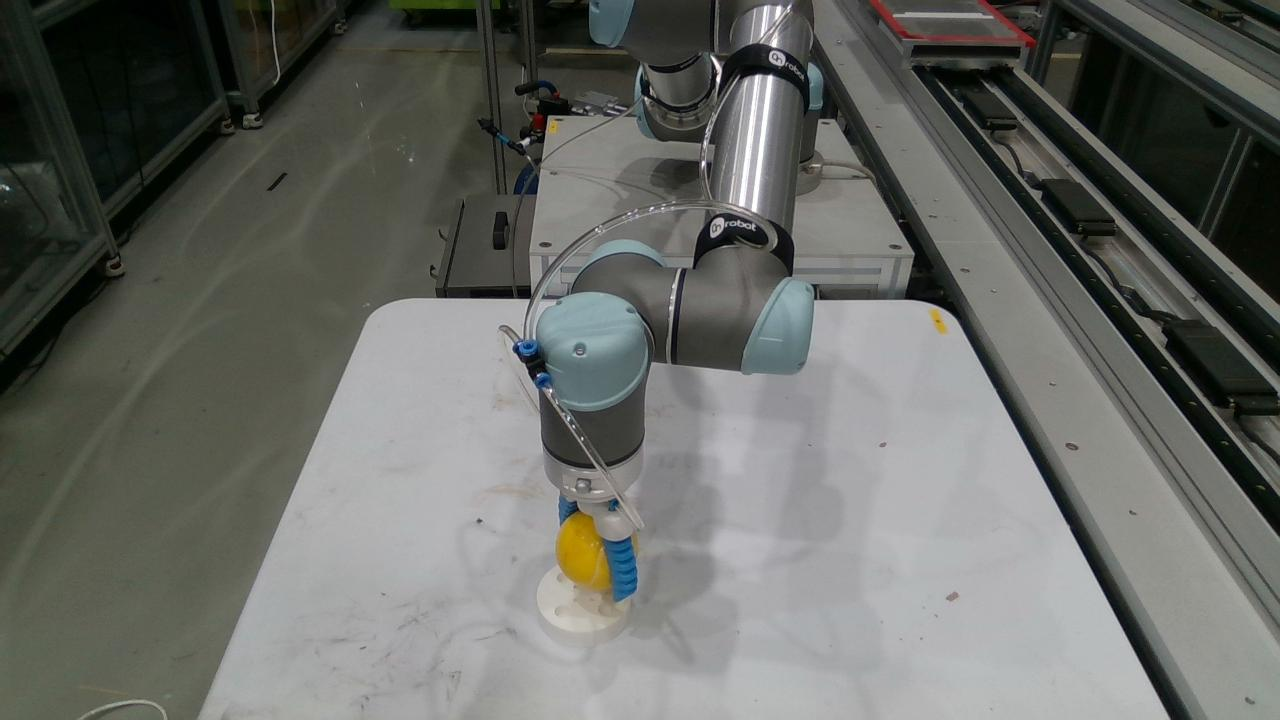UR5: (512, 0, 822, 601)
gripper_left: (558, 495, 578, 524)
gripper_right: (608, 538, 636, 598)
target: (536, 565, 633, 645), (556, 510, 609, 590)
